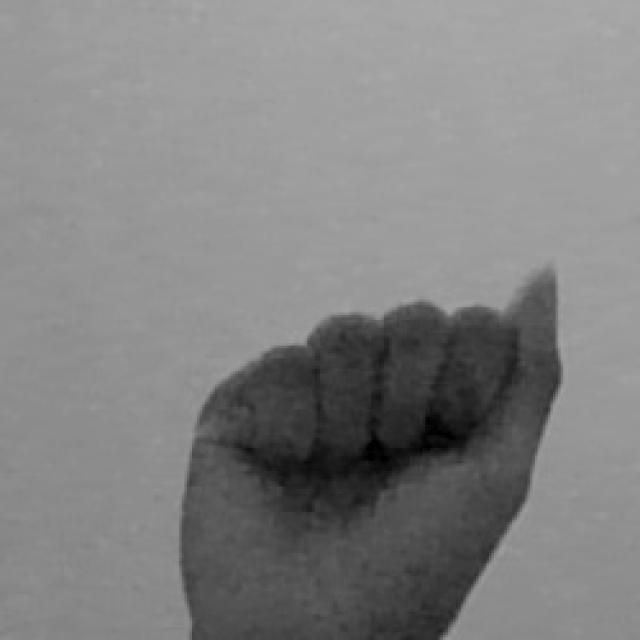A: (177, 261, 571, 640)
